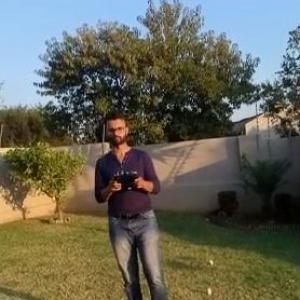follow: (88, 105, 172, 299)
